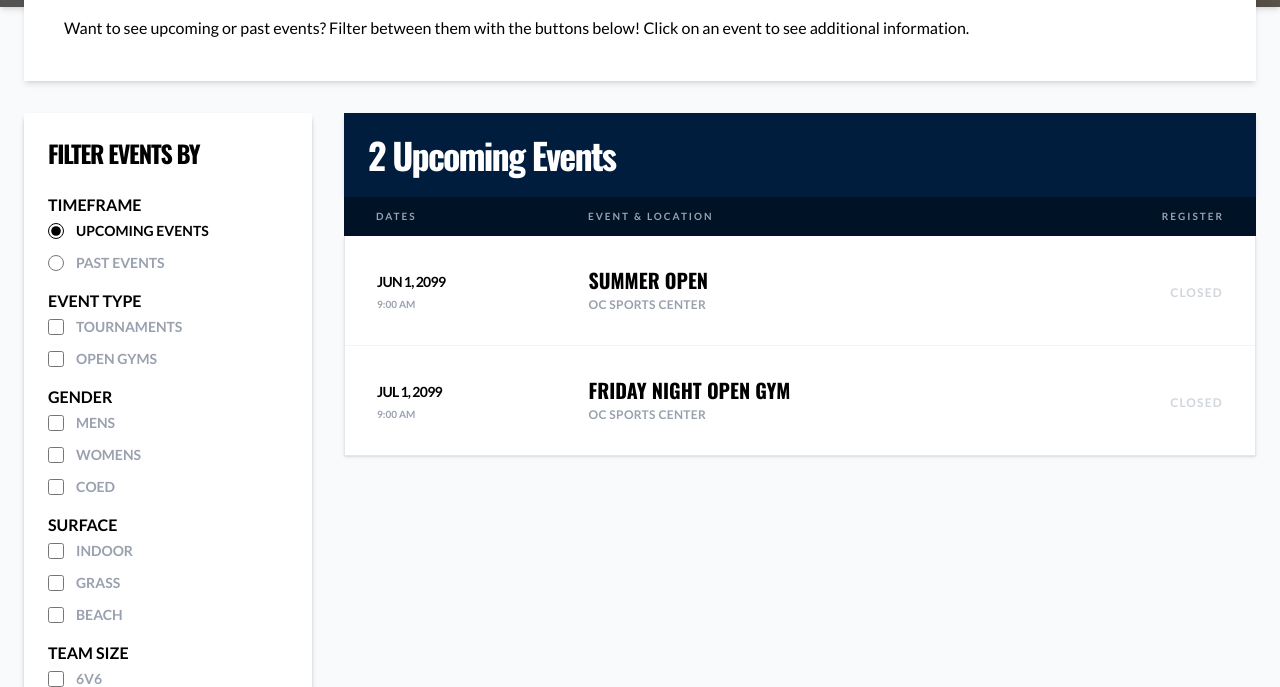
it: EventList › empty state › shows a no-results message when no events match
(page scrolled)
Click the checkbox labelled "Tournaments" at (56, 327), box [48,319,64,335]
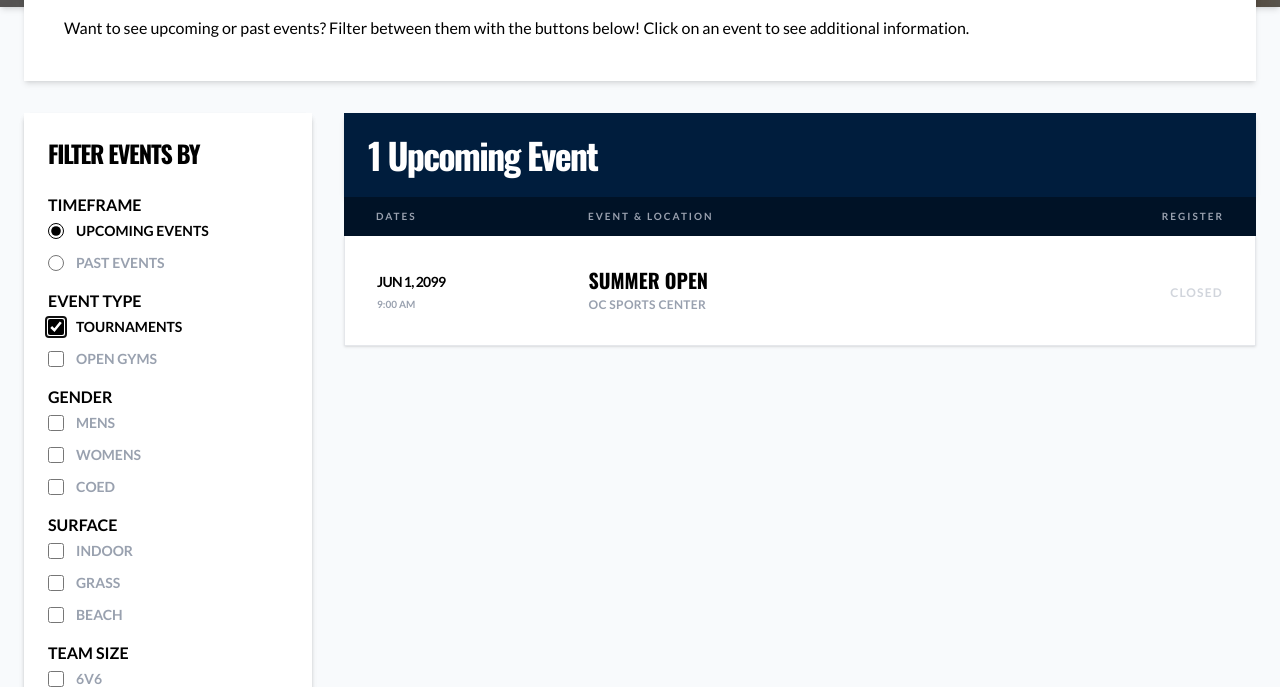
Click the checkbox labelled "Beach" at (56, 615), box [48,607,64,623]
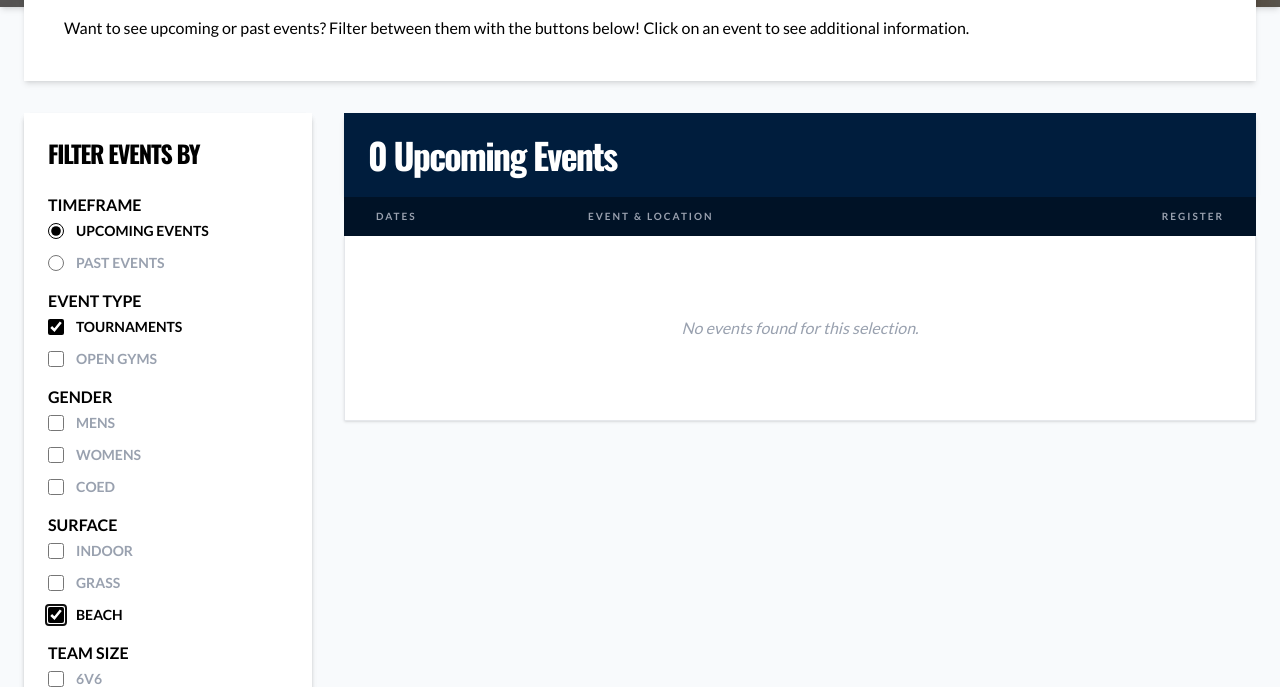
Now the text "No events found for this selection." is shown, box [682,318,918,337]
